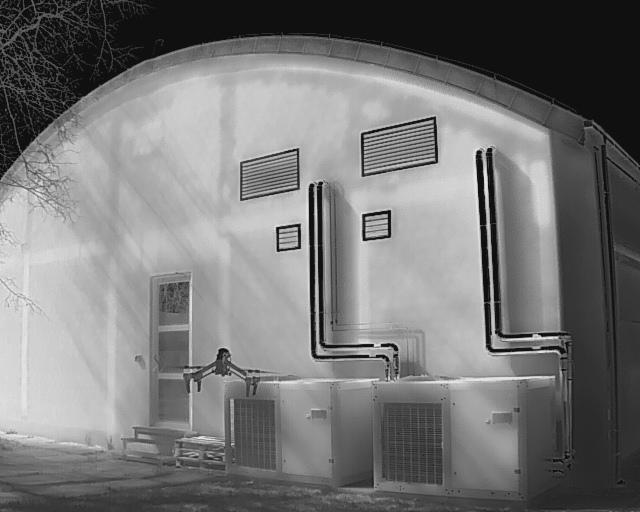drone: (176, 346, 268, 402)
